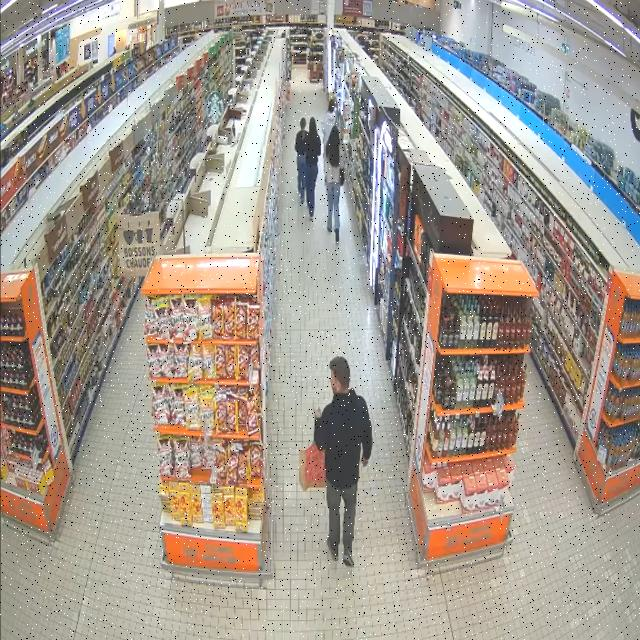bags: (300, 443, 326, 490), (340, 169, 345, 186)
hands: (314, 408, 322, 420), (362, 456, 368, 467), (324, 175, 326, 184)
person: (315, 357, 372, 566), (325, 126, 343, 242), (305, 117, 321, 219), (295, 118, 306, 203), (321, 98, 336, 147)
